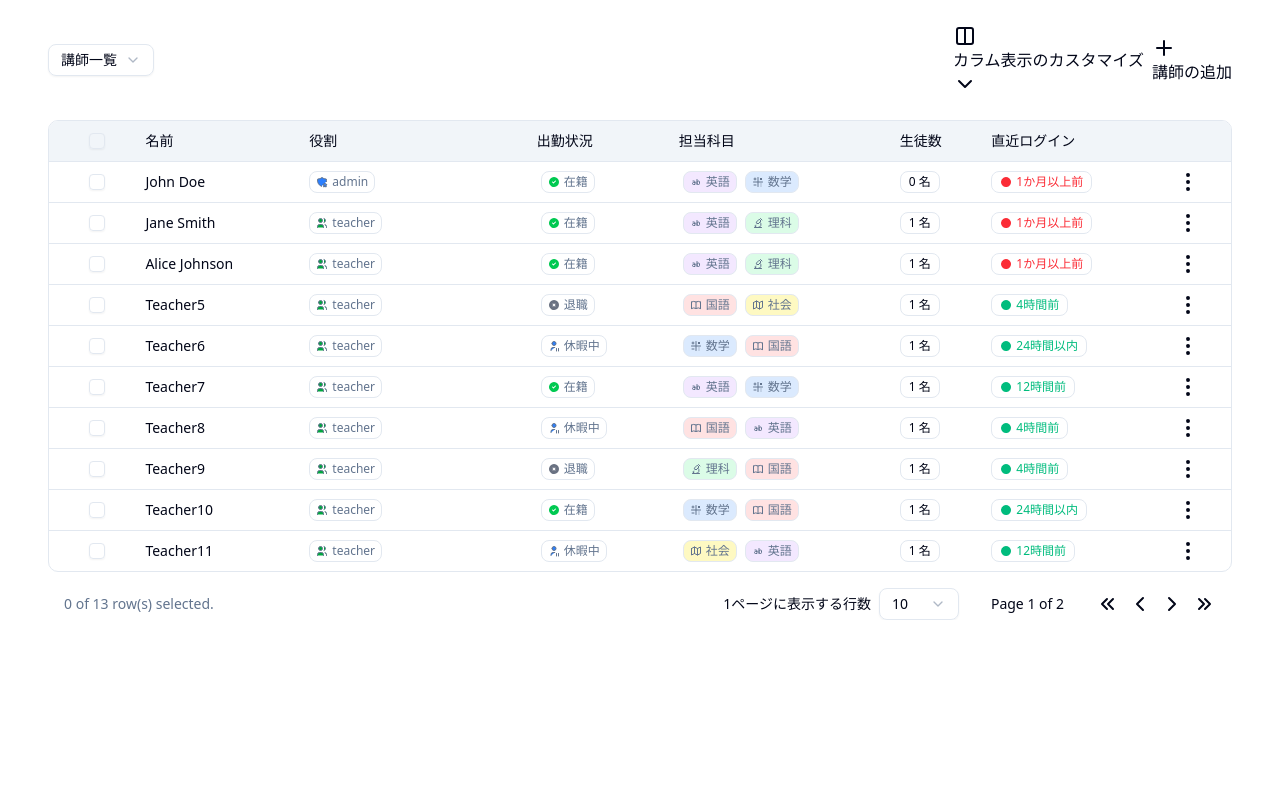
Scenario: Teacher Index Integration Tests › should work with pagination selector
Expected: the text "講師一覧" is shown, [61,50,117,70]
Click the dropdown named "1ページに表示する行数". click: (919, 604)
box: [879,588,959,620]
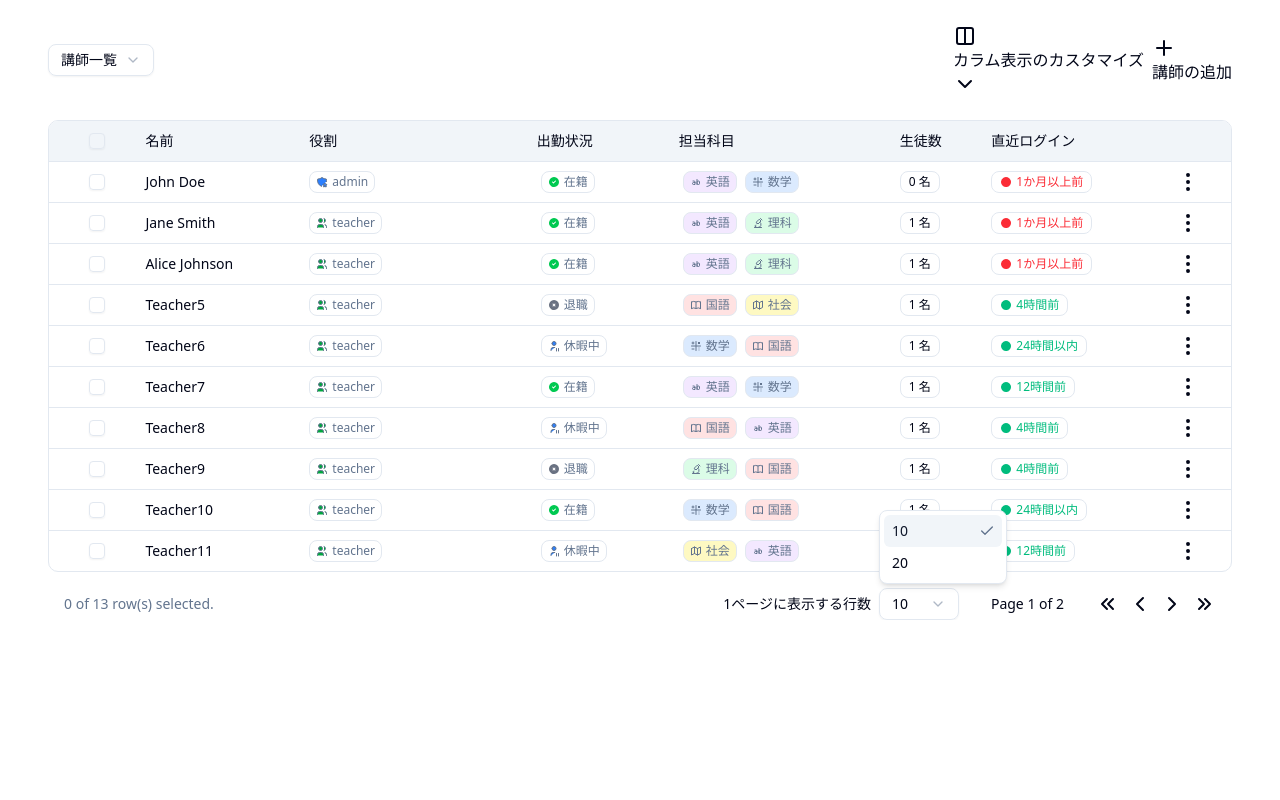
Click the option "20". click: (900, 562)
box: [892,553,908,572]
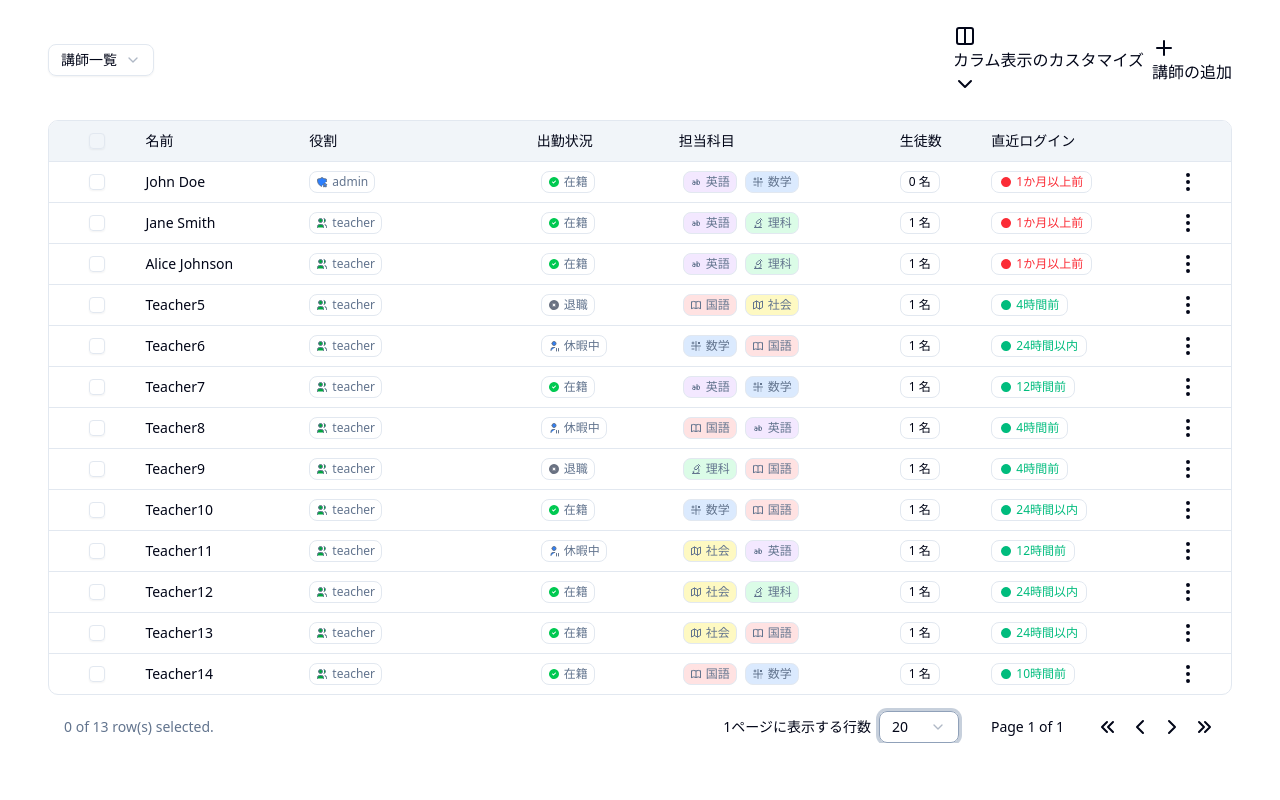
Expected: the dropdown named "1ページに表示する行数" reads "20", [879,710,959,742]
